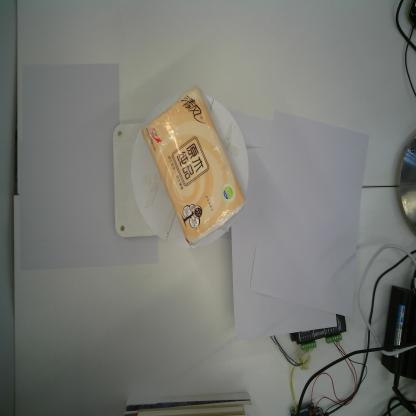Tissue: (143, 84, 246, 246)
